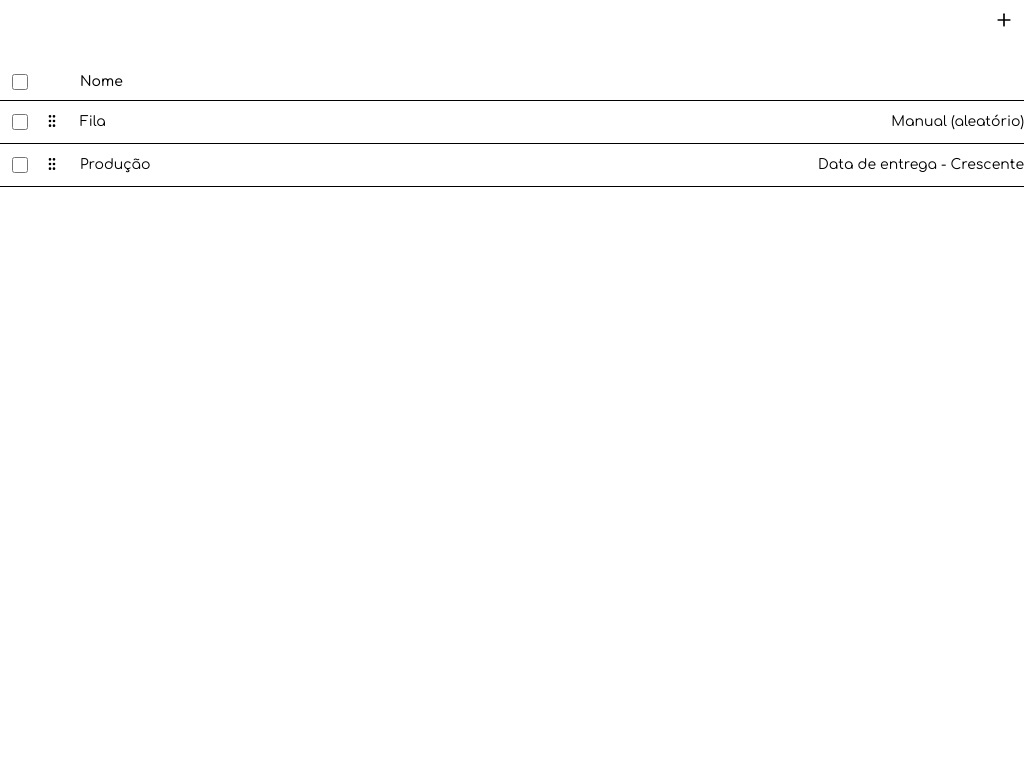
Test: StepManager › bulk deletes selected steps after confirmation
The width and height of the screenshot is (1024, 768).
Click the checkbox named "Selecionar Fila": (20, 122) left=12, top=114, right=28, bottom=130
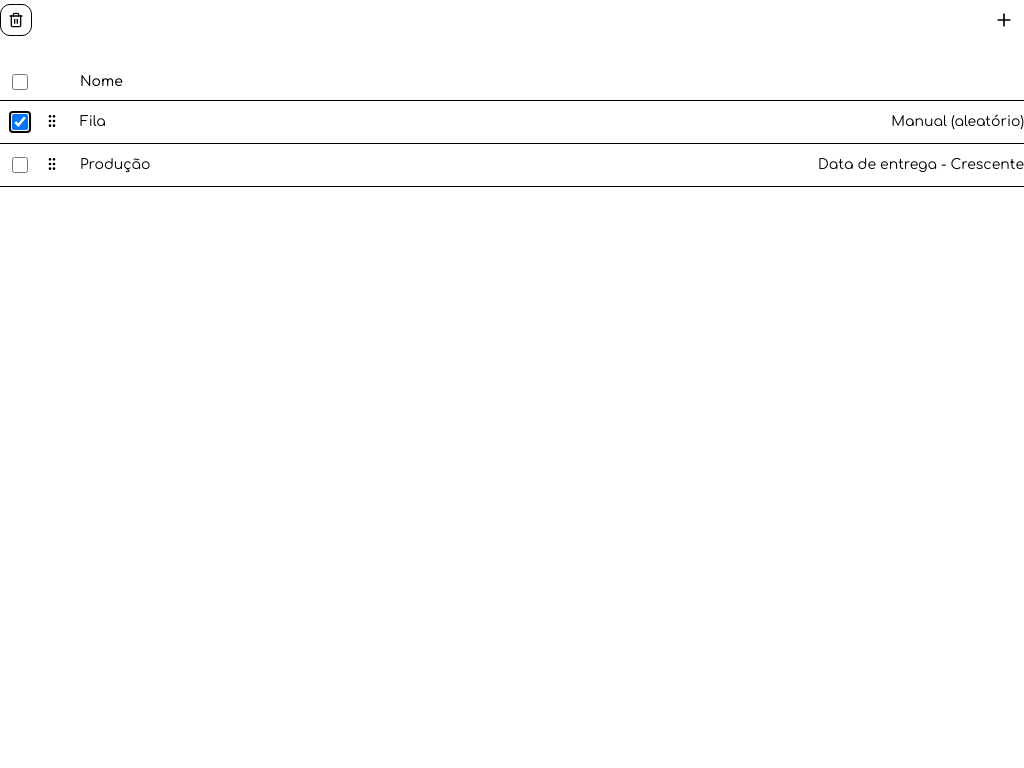
Click the button named "Excluir selecionadas": (16, 20) left=0, top=4, right=32, bottom=36
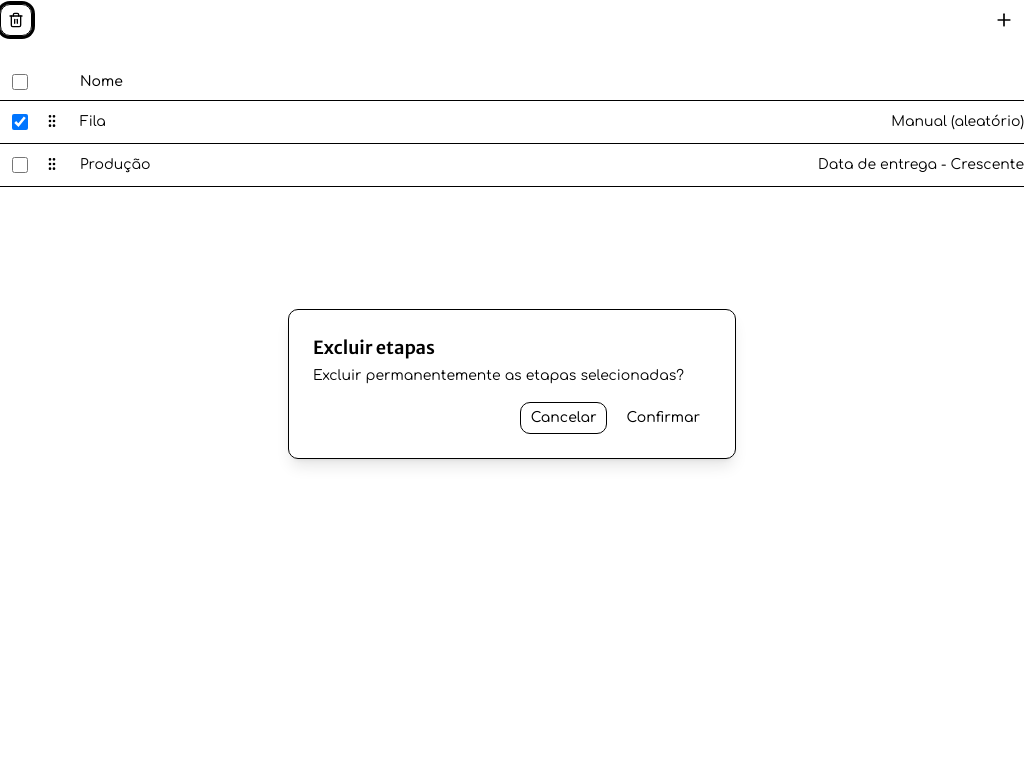
Click the button "Confirmar": (663, 418) left=615, top=402, right=711, bottom=434
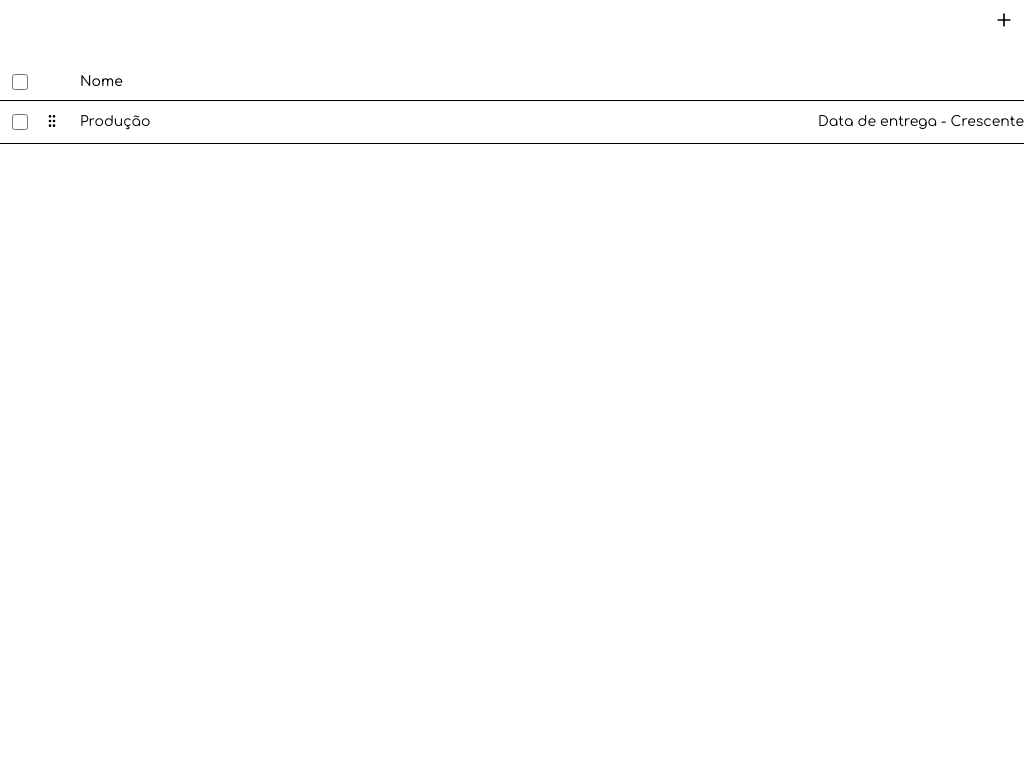
Expected: the text "Produção" is shown, left=80, top=112, right=151, bottom=132
Expected: the text "Fila" is gone
